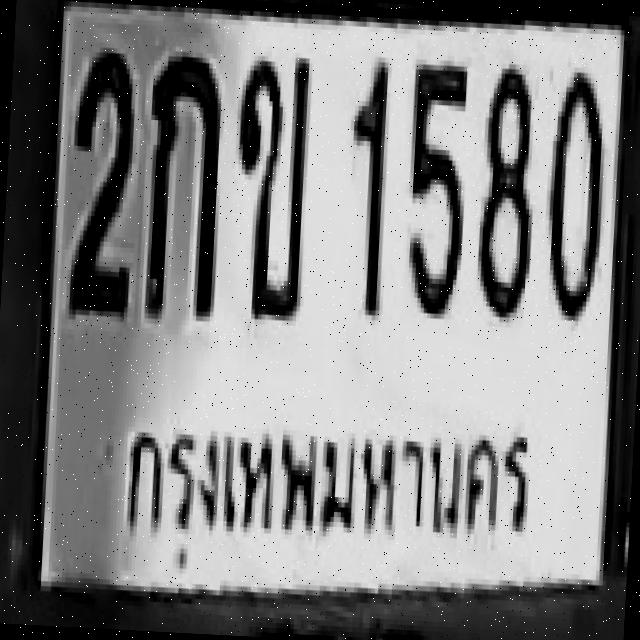0: (540, 66, 608, 322)
1: (341, 59, 392, 318)
10GorGai: (141, 51, 224, 316)
11KhorKhai: (226, 50, 312, 316)
2: (64, 39, 140, 315)
5: (399, 59, 472, 320)
8: (472, 65, 540, 321)
Bangkok: (112, 392, 538, 588)
